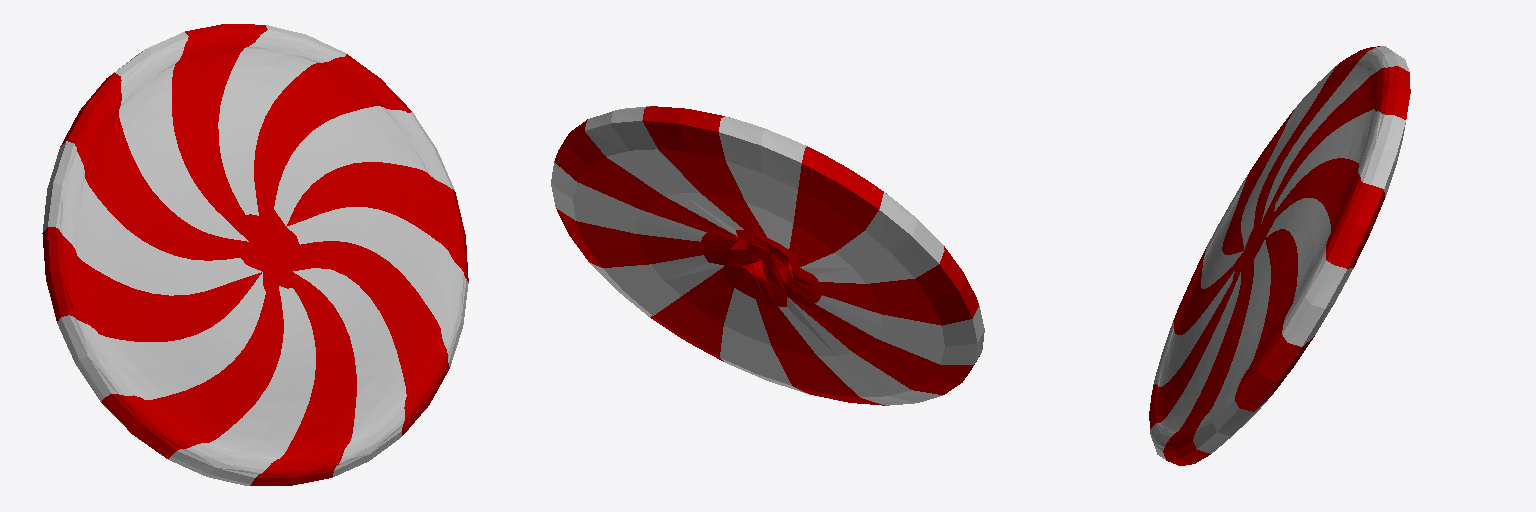
The model's file is button.obj.
The picture shows the model from 3 angles: view 1: azimuth 30°, elevation 25°; view 2: azimuth 150°, elevation 25°; view 3: azimuth 270°, elevation 25°; orthographic projection.
Visible parts, largest first — view 1: Button_top_Plane.003; view 2: Button_top_Plane.003; view 3: Button_top_Plane.003.
Part boxes in pixels (x1,y1,x2,y2): Button_top_Plane.003: (42,24,468,485); Button_top_Plane.003: (551,106,984,405); Button_top_Plane.003: (1149,46,1410,465).
Size of the model in its own units: 0.0406 by 0.0351 by 0.0226.